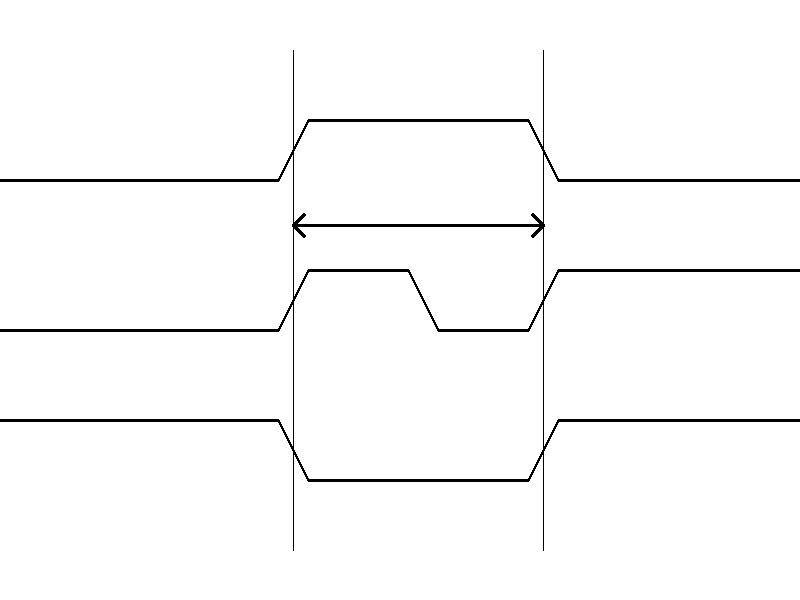double_arrow: (293, 210, 543, 240)
